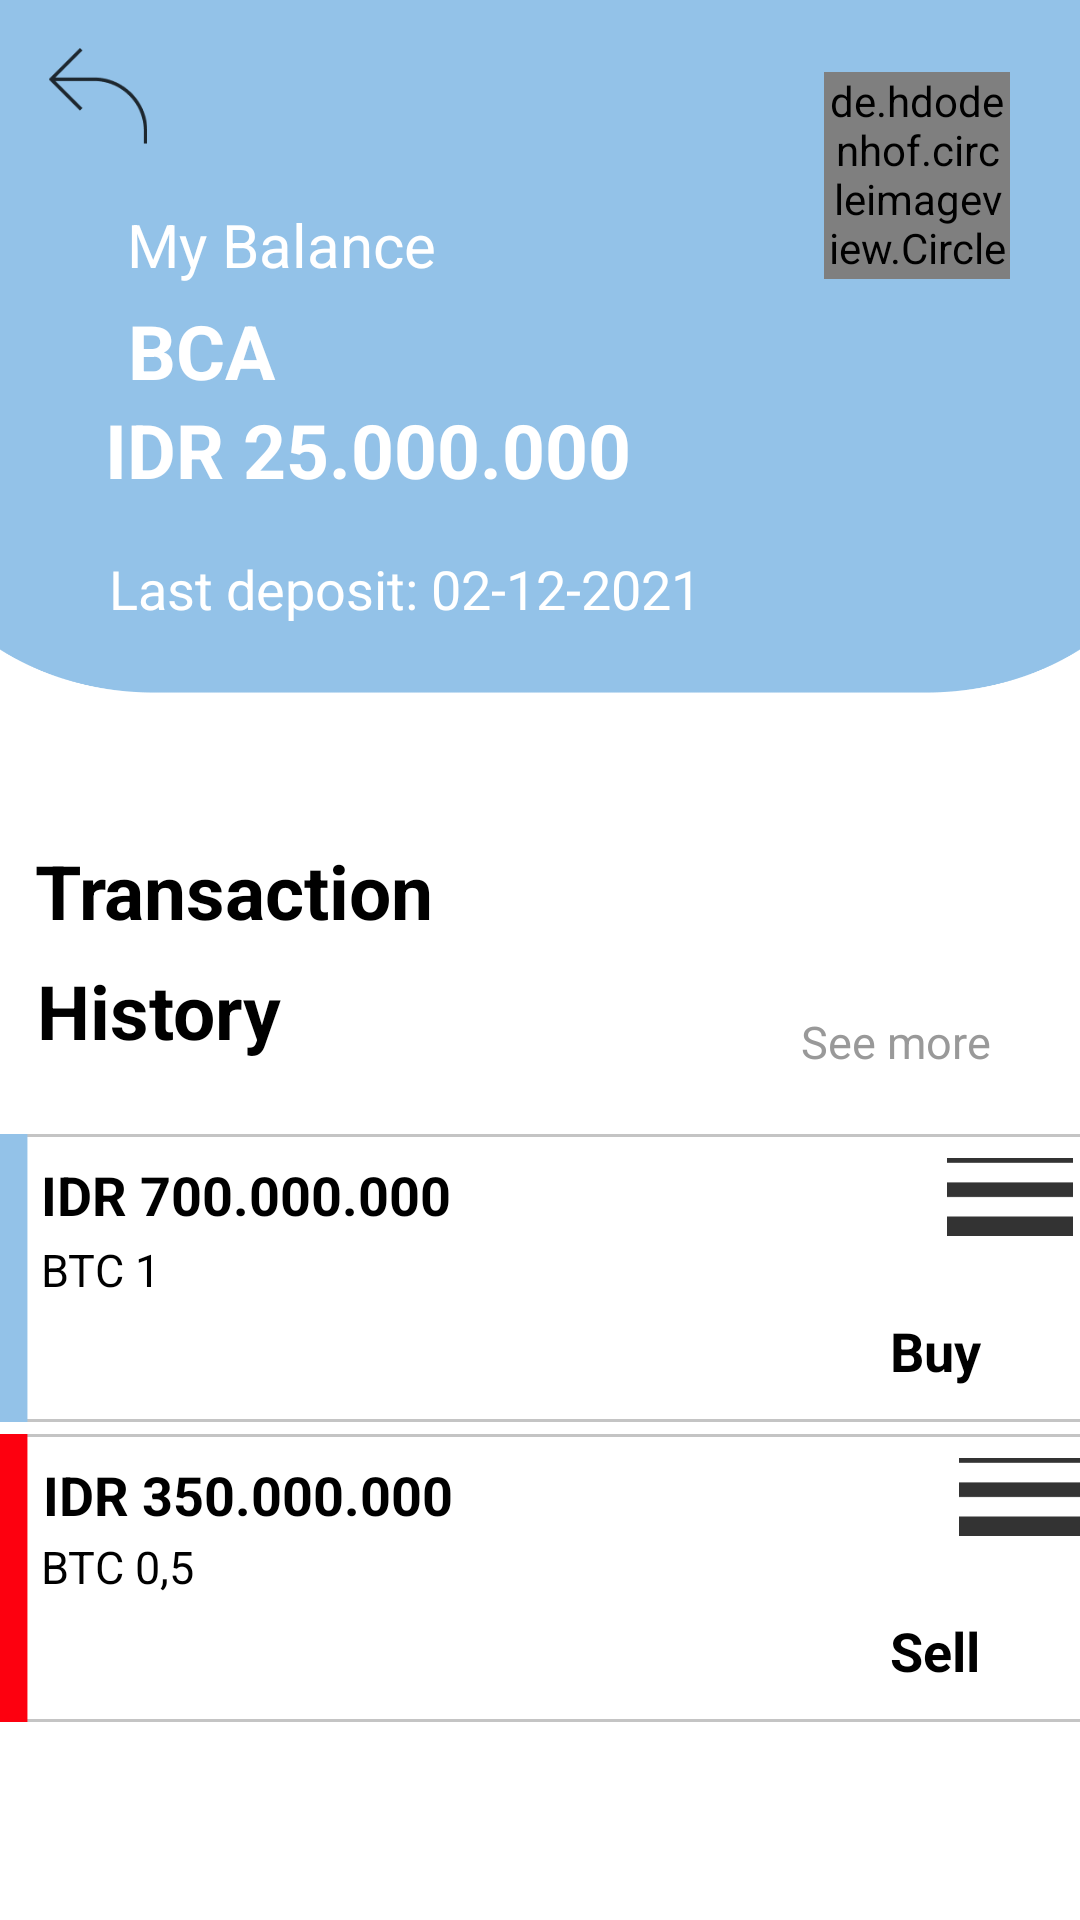

Point at icon controls on the screen. Image size 1080px×1920px, points as [x,y].
icback: [98,96]
